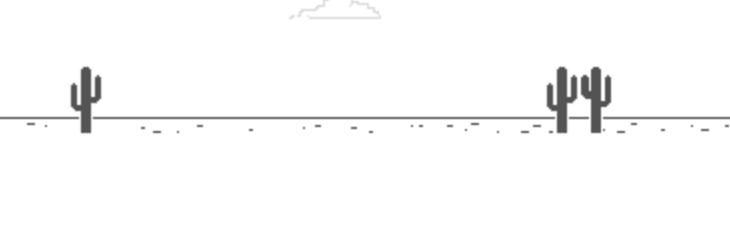dead-t-rex: (543, 62, 617, 139)
t-rex: (67, 62, 103, 138)
